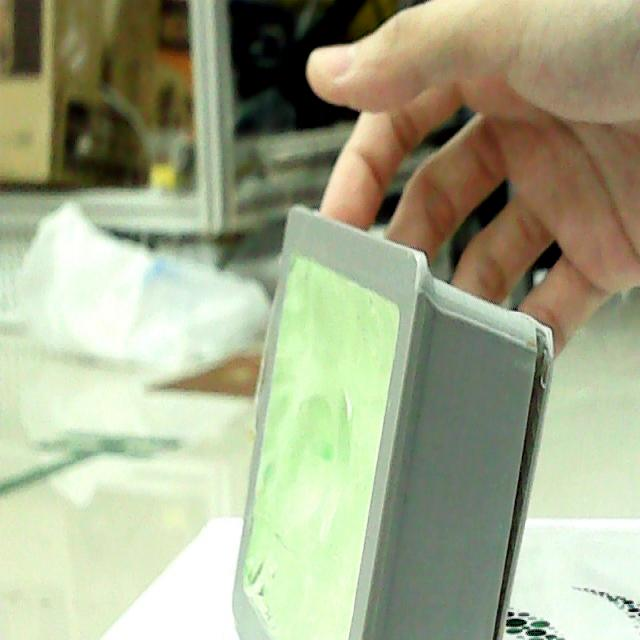block: (227, 198, 543, 640)
